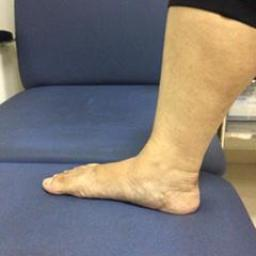Medial View -Right Foot-: (36, 114, 224, 218)
